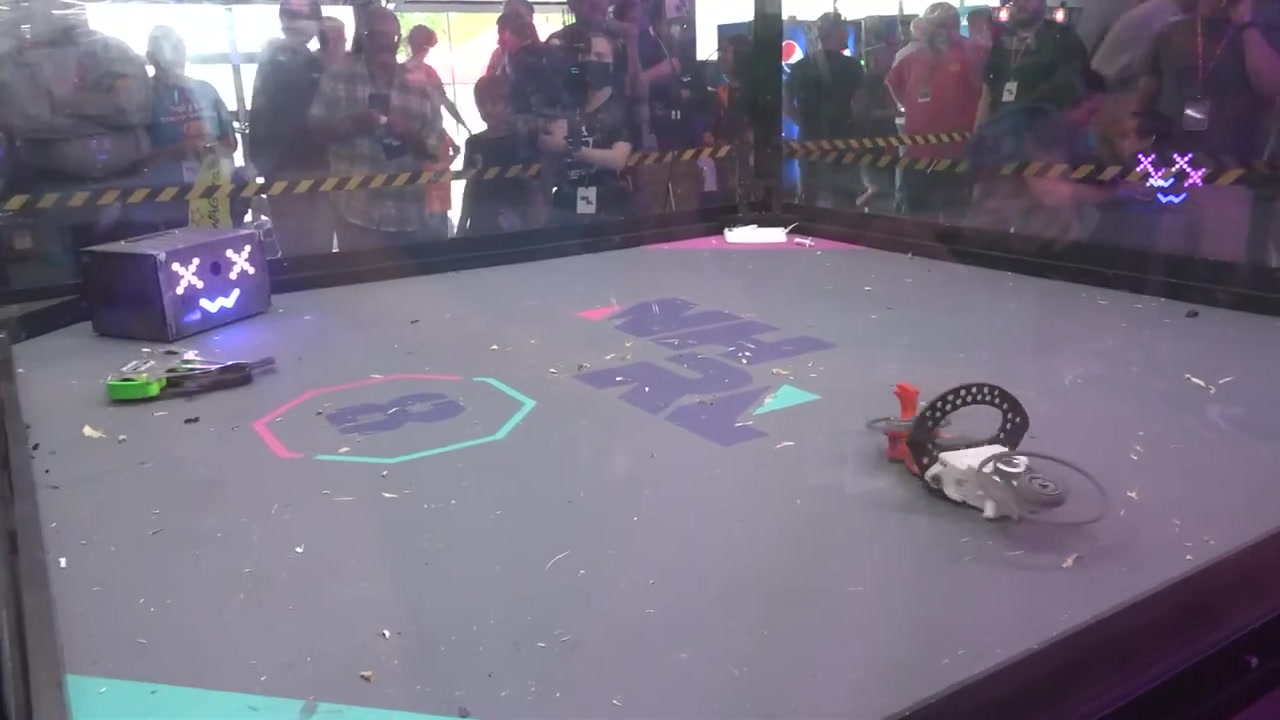combatbot: (865, 382, 1118, 538), (106, 348, 277, 405)
housebot: (83, 224, 276, 340)
minibot: (721, 222, 805, 242)
